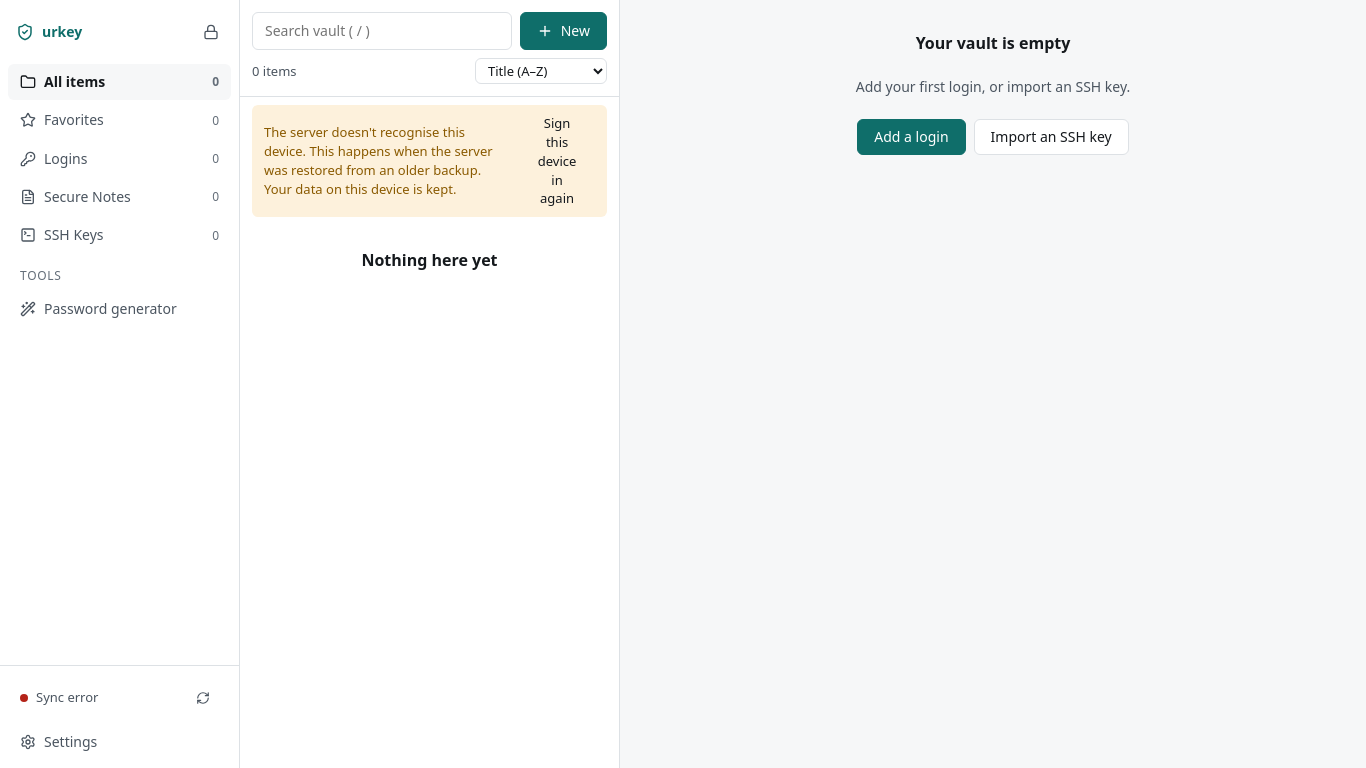
Test: vault › offers to sign an unknown device in again, then drops the notice (review N-2)
Expected: the text "Your data on this device is kept" is shown, [264,123,493,198]
What coordinates should you click on to do the following:
click the button "Sign this device in again"
I would click on:
 (557, 161)
Its box is [519,113,595,209].
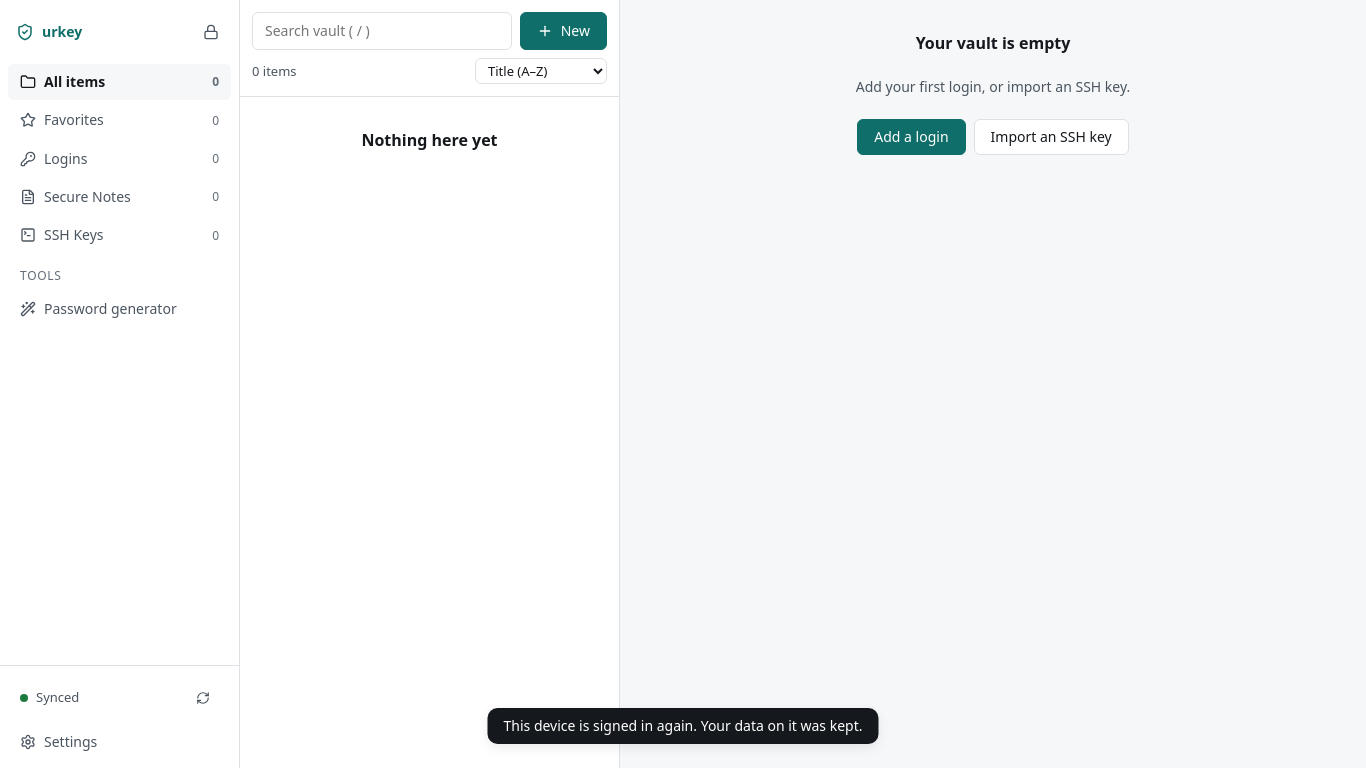
Now the text "doesn.t recognise this device" is gone
Now the text "This device is signed in again. Your data on it was kept." is shown, box [504,716,862,736]
